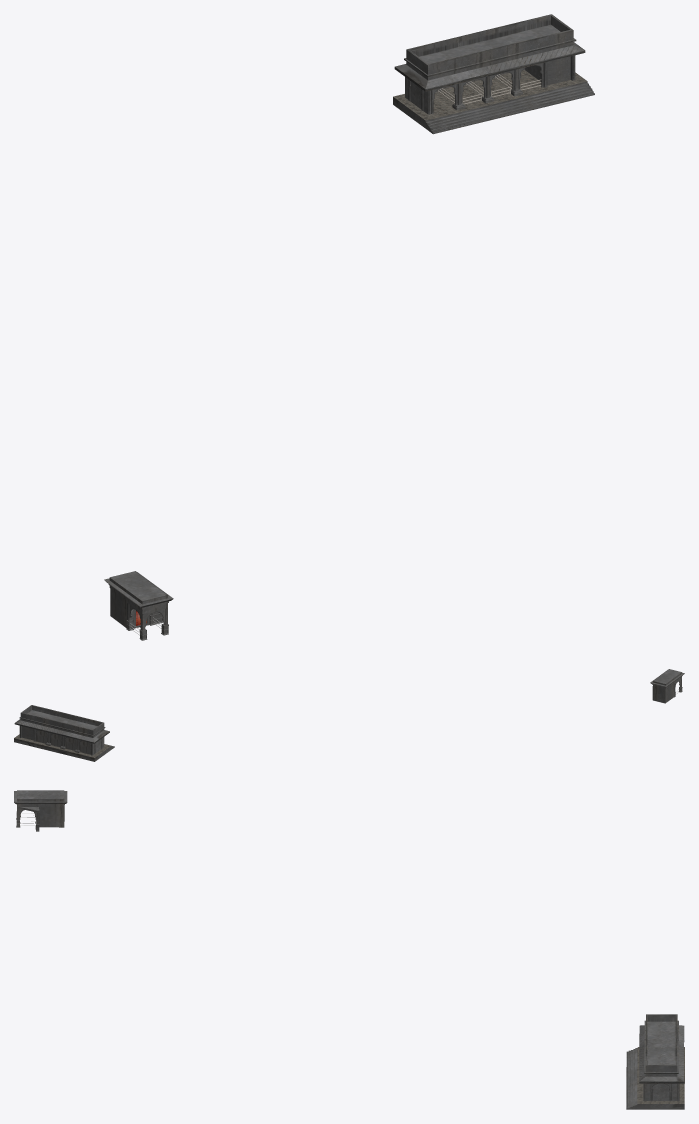
The model's file is Temple_03.fbx.
3 renders of one model, top to bottom at view 1: azimuth 30°, elevation 25°; view 2: azimuth 150°, elevation 25°; view 3: azimuth 270°, elevation 25°, orthographic. The views are drawn at different scales.
Visible parts, largest first — view 1: Temple 03.001, Temple 03; view 2: Temple 03.001, Temple 03; view 3: Temple 03.001, Temple 03.
Boxes of the visible parts, left/top/right/bottom form: Temple 03.001: left=393, top=14, right=594, bottom=134; Temple 03: left=104, top=571, right=173, bottom=640; Temple 03.001: left=14, top=705, right=114, bottom=761; Temple 03: left=650, top=669, right=684, bottom=703; Temple 03.001: left=626, top=1014, right=684, bottom=1109; Temple 03: left=14, top=790, right=67, bottom=831.
Bounding box in the file's own units: 14270 × 1253 × 13064.
2 materials, 2 textured.
